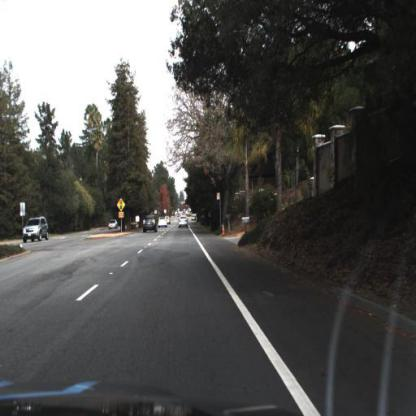car: (23, 215, 50, 242), (142, 212, 162, 238), (104, 217, 121, 234), (158, 214, 172, 232), (178, 210, 191, 229)
